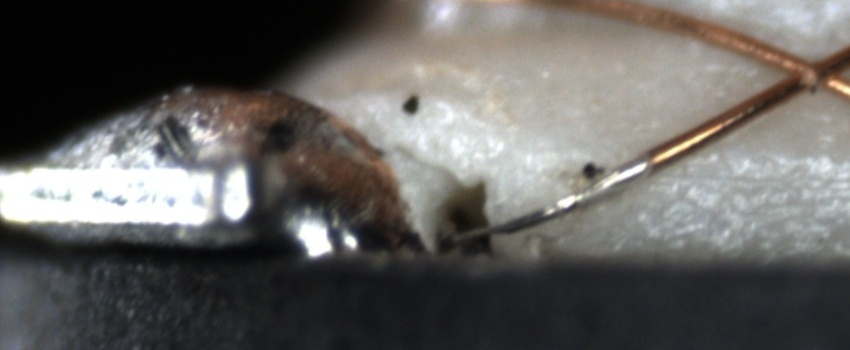CL: (766, 39, 848, 101)
DL: (653, 147, 849, 211)
TS: (446, 155, 657, 242)
TTCW: (441, 119, 706, 246)
